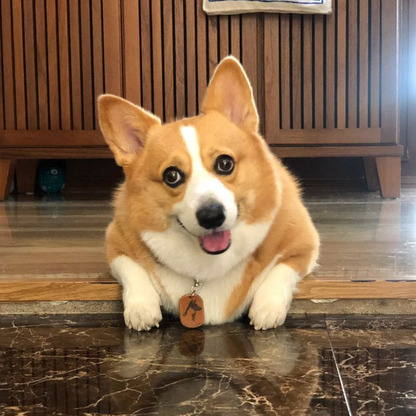Corgi: (76, 57, 336, 331)
